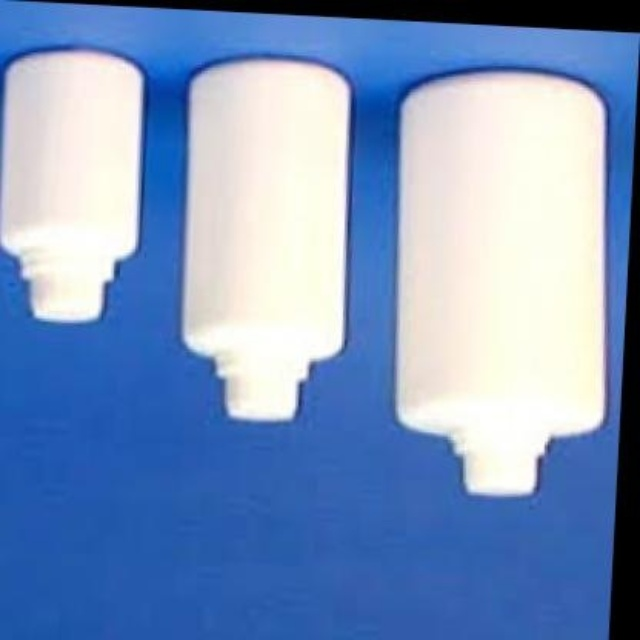trash: (397, 71, 605, 494), (183, 58, 349, 418), (0, 51, 142, 320)
